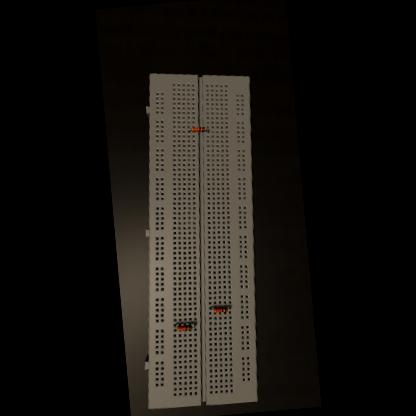breadboard: (119, 65, 278, 411)
resistor: (213, 306, 227, 313), (178, 325, 192, 332), (192, 126, 204, 133)
wire: (228, 307, 231, 310), (210, 308, 214, 310), (192, 324, 194, 328), (174, 324, 176, 328), (205, 130, 208, 132), (189, 129, 191, 132)
